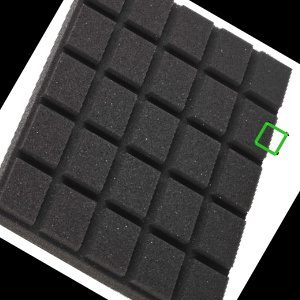square: (252, 120, 290, 157)
